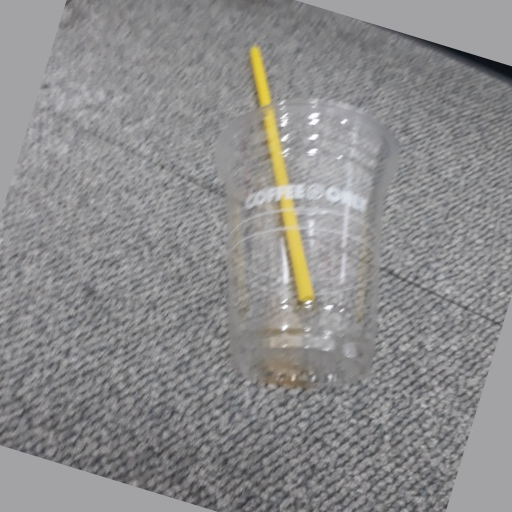Plastic_2: (215, 44, 403, 389)
